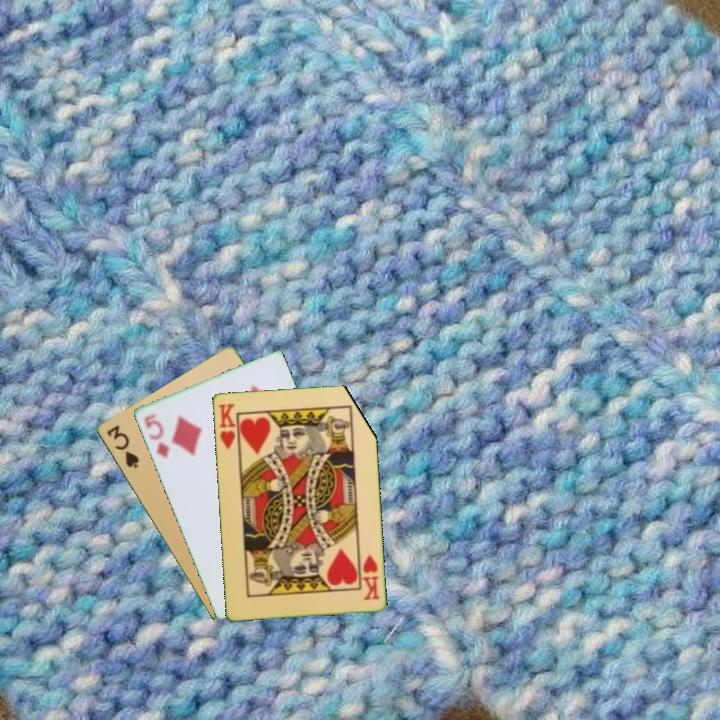3s: (103, 421, 142, 471)
5d: (140, 410, 172, 461)
Kh: (215, 400, 241, 454), (358, 551, 382, 603)
